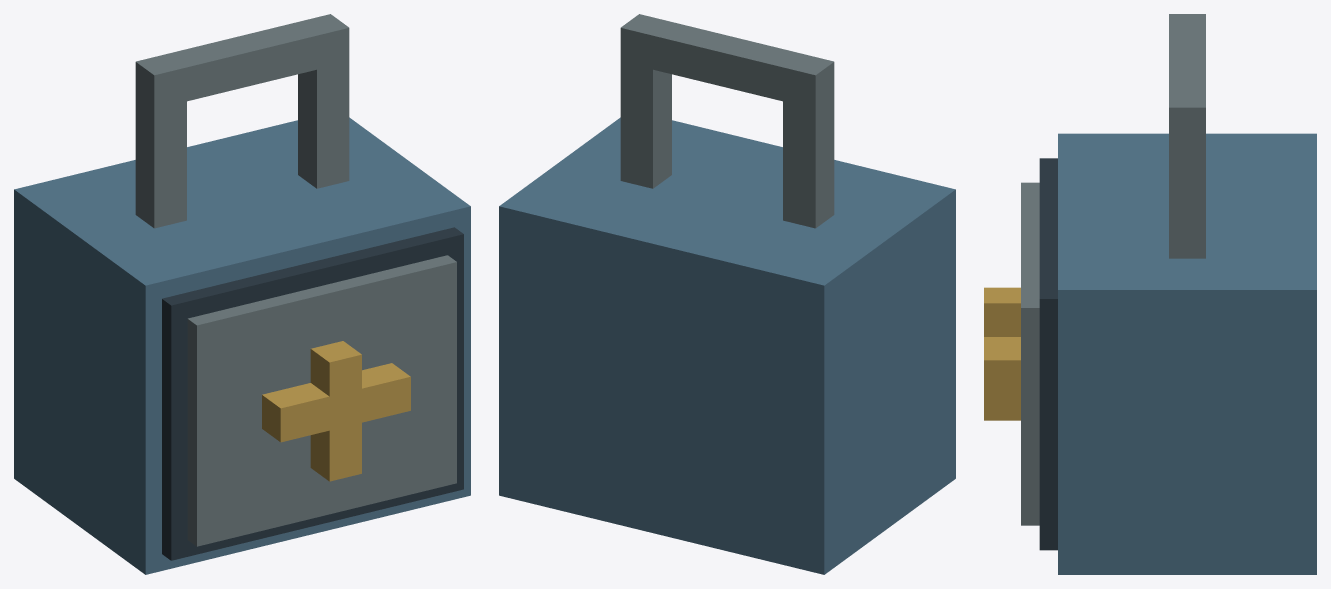
File: security-03.glb
The picture shows the model from 3 angles, left to right: view 1: azimuth 30°, elevation 25°; view 2: azimuth 150°, elevation 25°; view 3: azimuth 270°, elevation 25°; orthographic projection.
Parts seen in each view (by area): view 1: Encryption lock; view 2: Encryption lock; view 3: Encryption lock.
Boxes of the visible parts, left/top/right/bottom form: Encryption lock: left=14, top=14, right=470, bottom=574; Encryption lock: left=499, top=14, right=955, bottom=574; Encryption lock: left=984, top=14, right=1316, bottom=574.
Size of the model in its own units: 1.6 by 2.08 by 1.44.
